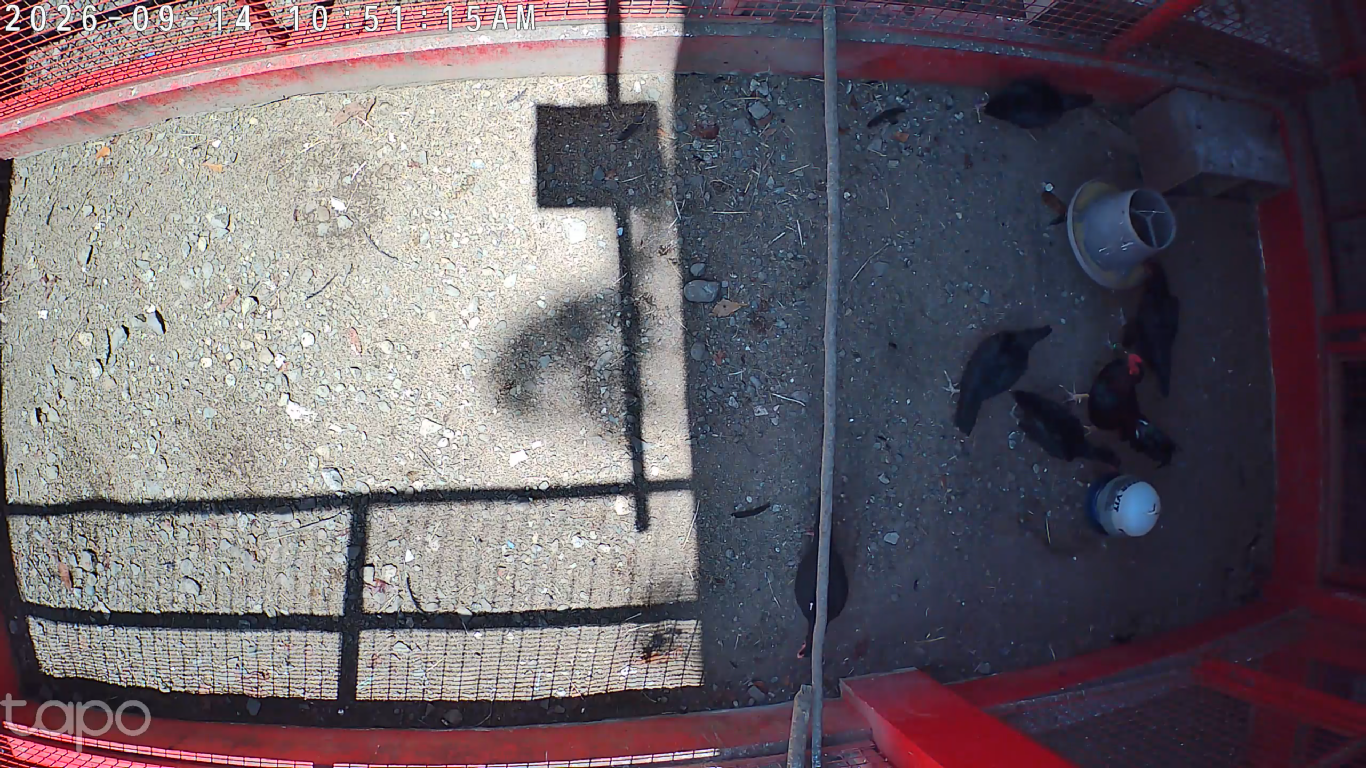Chicken: (939, 321, 1056, 439), (1100, 252, 1185, 396), (791, 490, 855, 660), (1005, 386, 1122, 474), (965, 71, 1104, 136)
Drinker: (1089, 472, 1163, 539)
Feeder: (1065, 177, 1180, 292)
Rooster: (1060, 349, 1183, 471)
